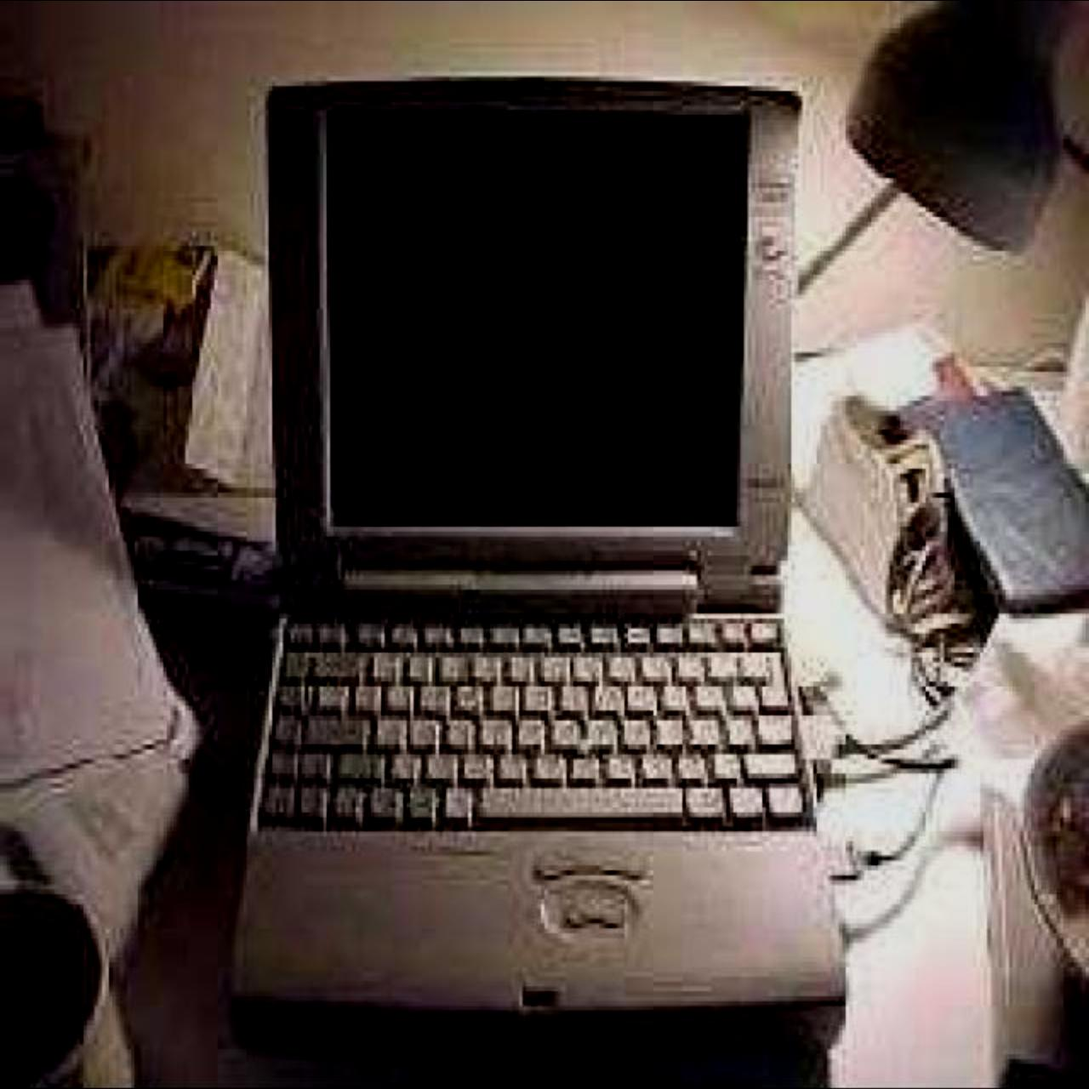laptop: (228, 93, 807, 1023)
